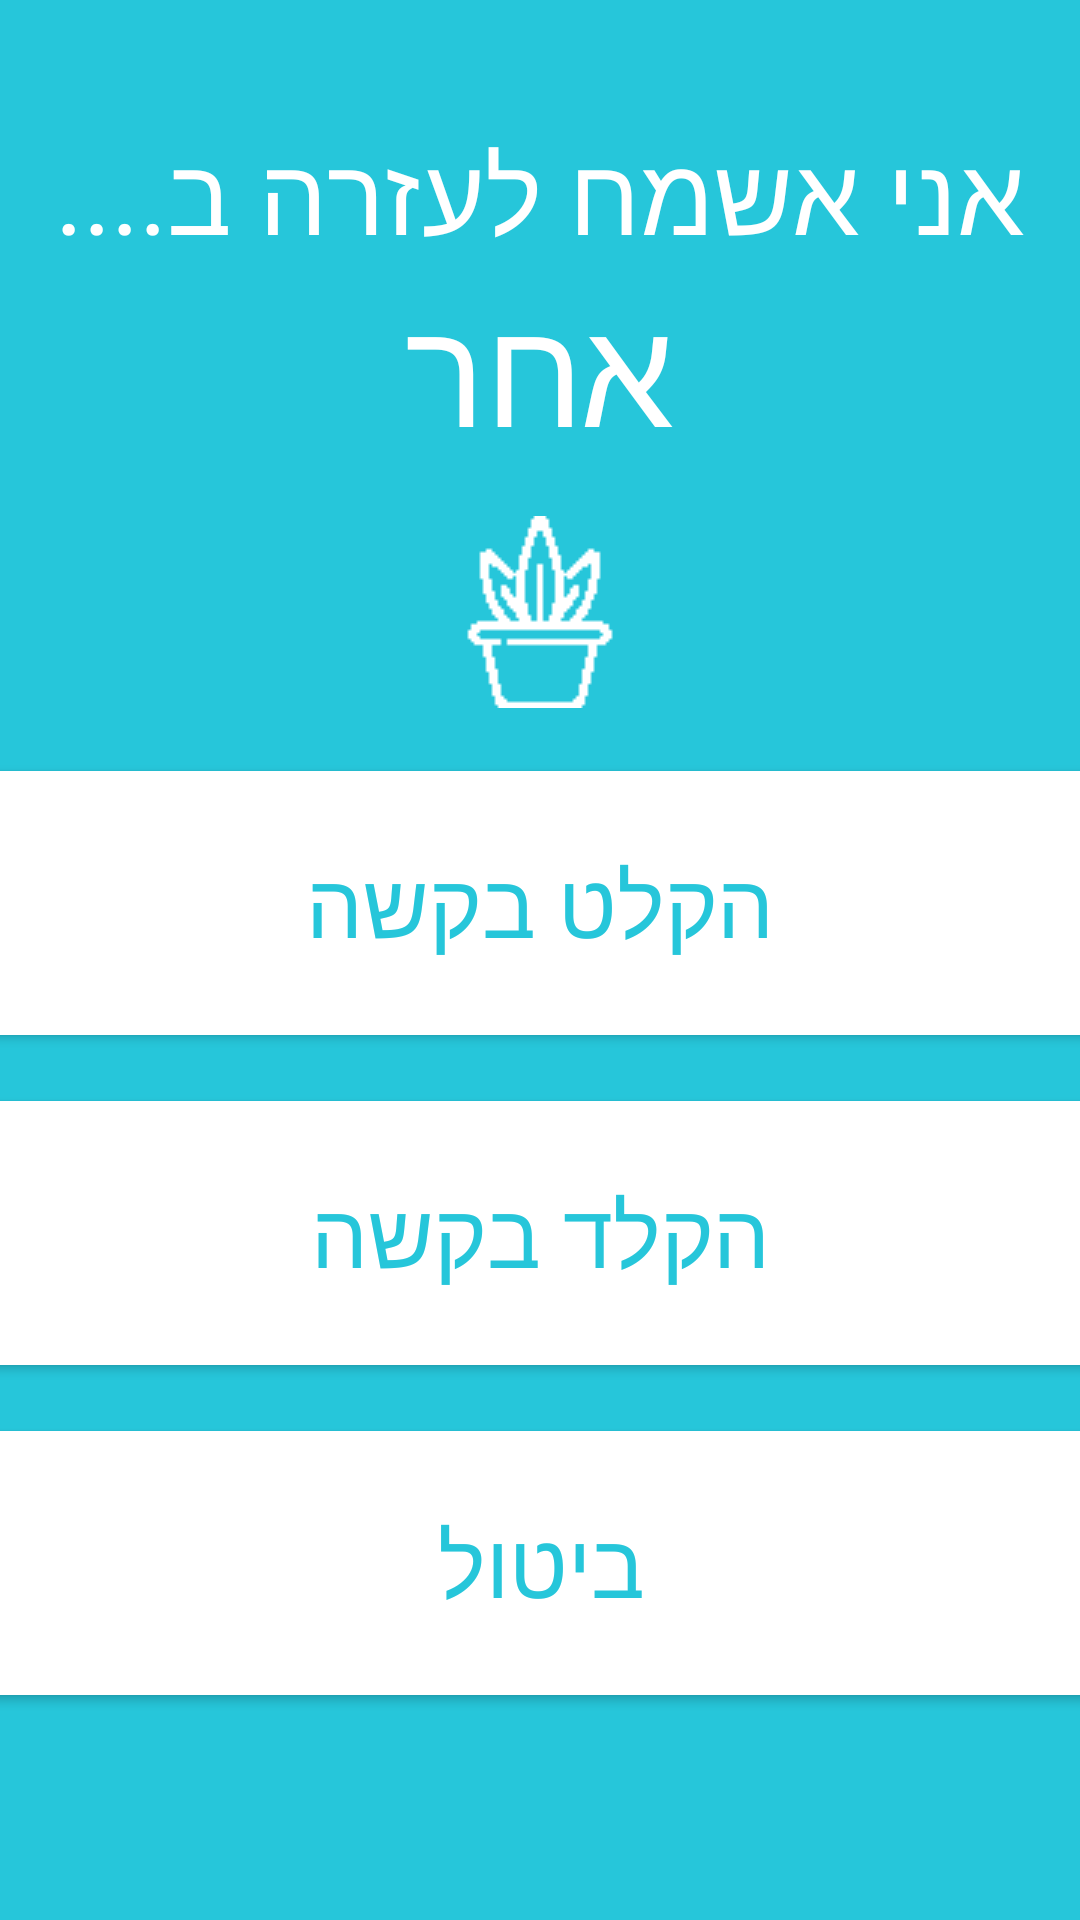

Icon bounding boxes for this 1080px x 1920px phone screenshot, format (x1, y1, x2, y2):
plant pot: (467, 516, 613, 708)
